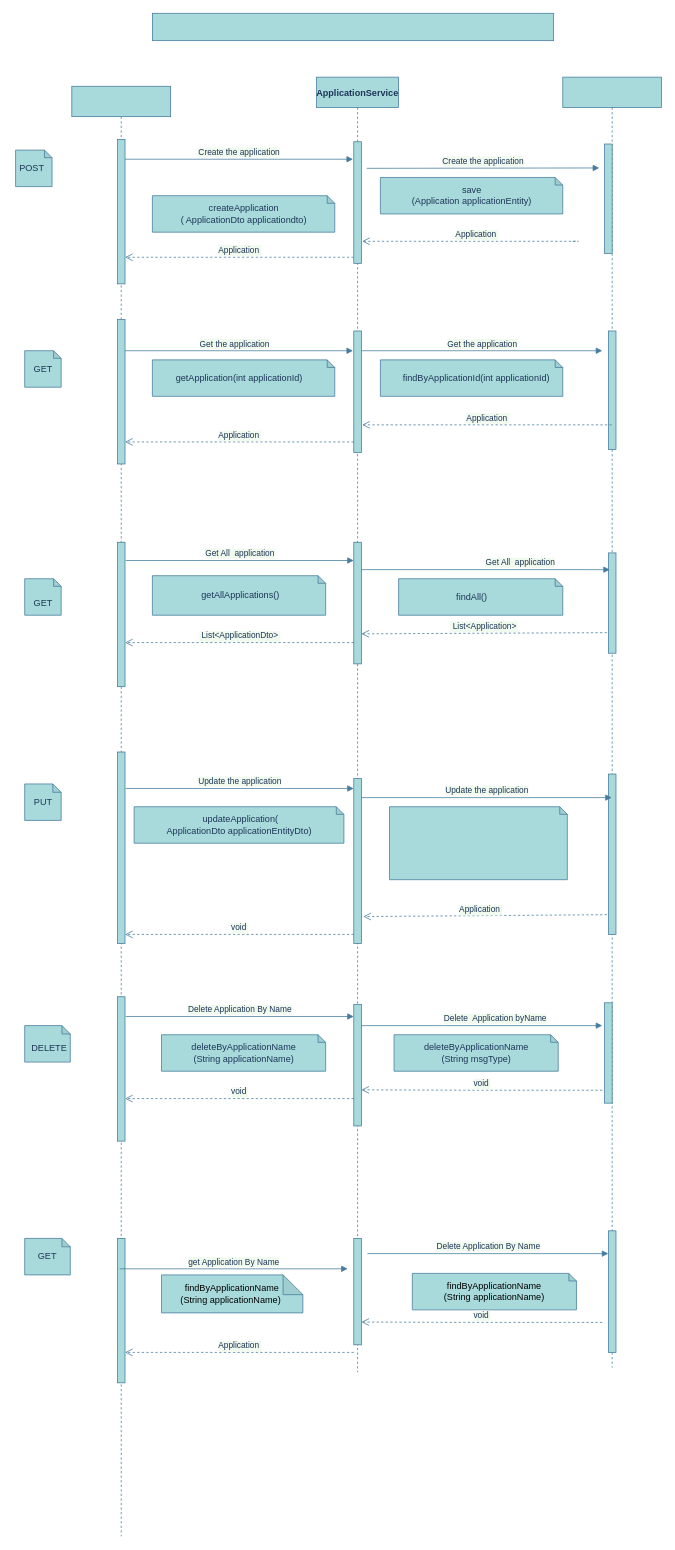
This 675x1550 diagram has some shape labels left out. The box of each missing label's shape, as (x1, y1, x2, y2) in pixels:
ApplicationController: (71, 86, 171, 1536)
ApplicationRepository: (562, 76, 662, 1368)
RouteConfig Api: (152, 13, 554, 41)
save (Application application): (389, 806, 567, 880)
